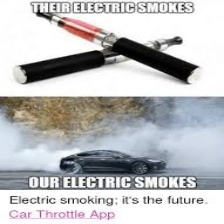smoke: (107, 120, 219, 154), (2, 121, 60, 169)
